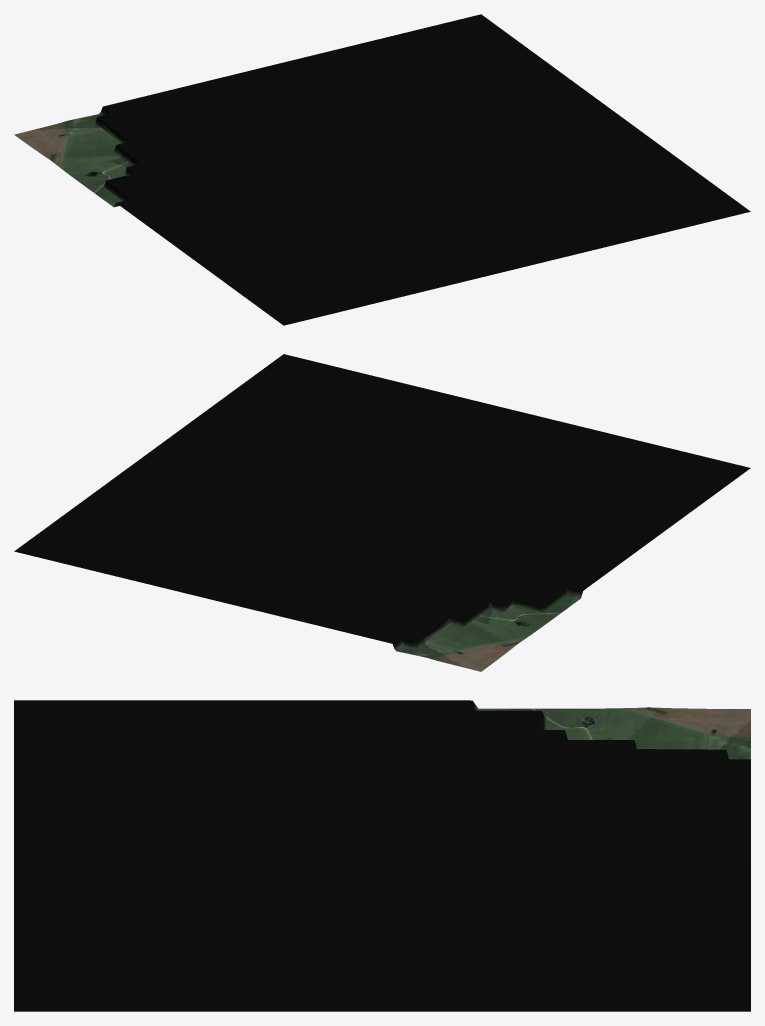
File: map_10_258_429.dae
3 views of the same model, one above another, from view 1: azimuth 30°, elevation 25°; view 2: azimuth 150°, elevation 25°; view 3: azimuth 270°, elevation 25° (orthographic). The views are drawn at different scales.
Parts seen in each view (by area): view 1: Ter0; view 2: Ter0; view 3: Ter0.
Boxes of the visible parts, x1,y1,x2,y2 form: Ter0: (14, 14, 750, 325); Ter0: (14, 354, 750, 671); Ter0: (14, 700, 750, 1011).
Size of the model in its own units: 2044 by 2044 by 42.8.
Materials: 4 (4 with a texture image).
